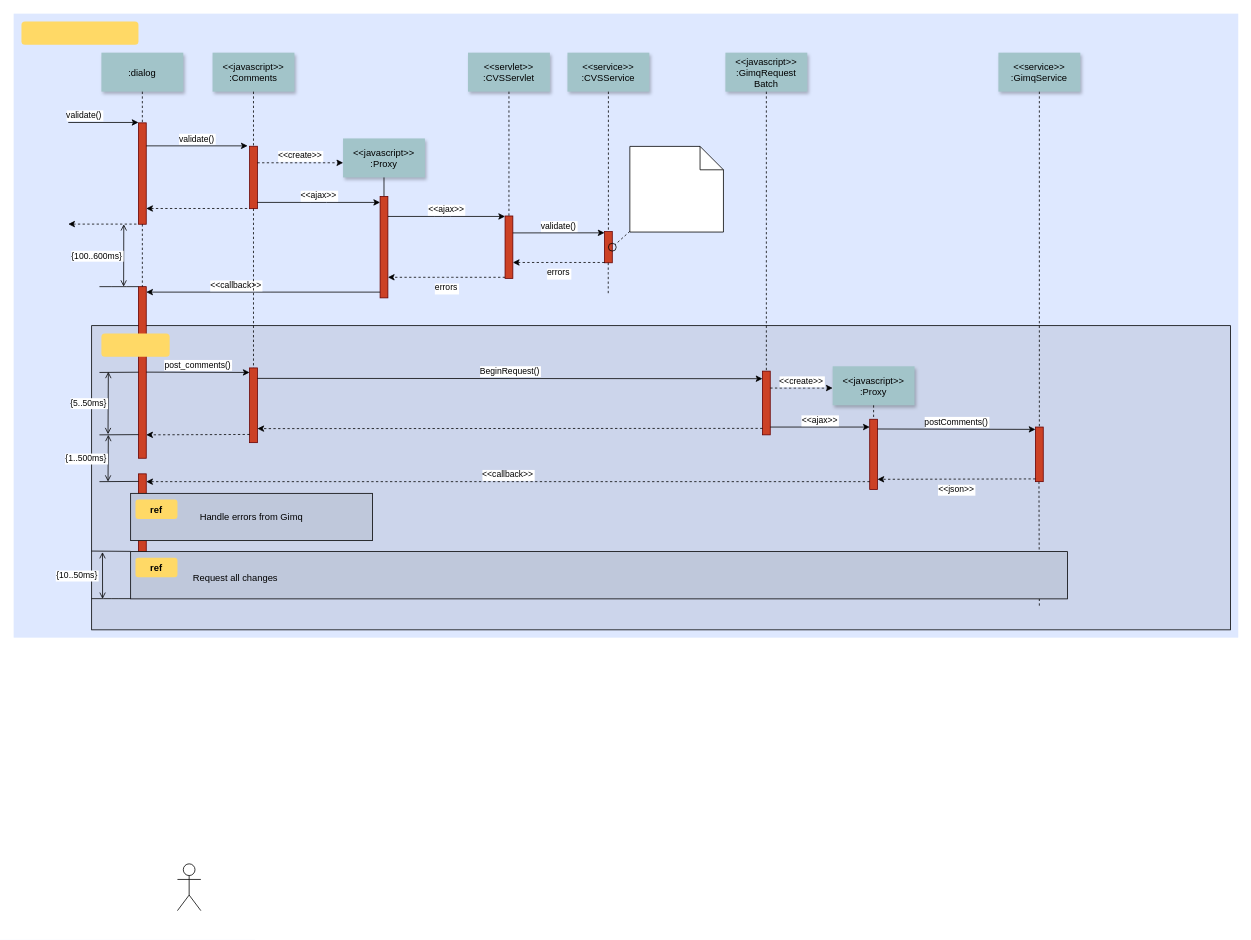
The diagram is 1251 pixels wide and 940 high, and some of its shapes have lost their labels. The centre of each missing label's shape, as x and y in pixels:
- user validation - password check: point (676, 189)
Actor: point (189, 887)
opt: point (135, 344)
rt submit_changes: point (79, 32)
